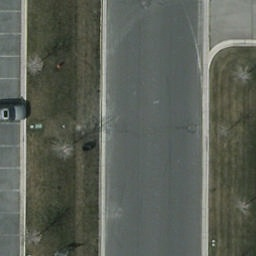car: (0, 106, 28, 122)
